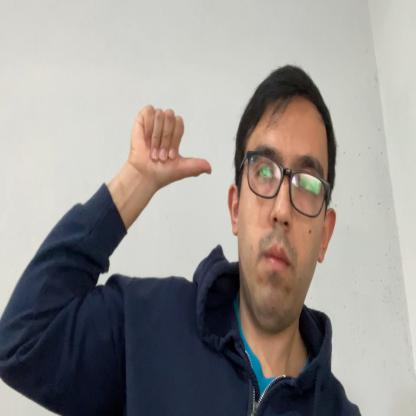A: (129, 104, 212, 184)
